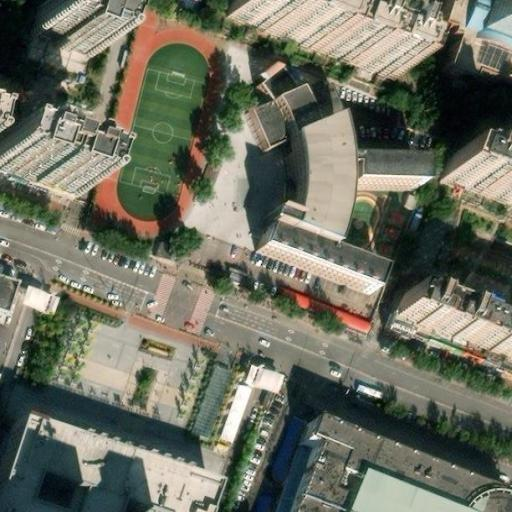building: (272, 422, 512, 512), (0, 422, 204, 512), (226, 0, 393, 81), (392, 288, 512, 358), (247, 217, 366, 281), (427, 0, 512, 83), (280, 122, 336, 241), (260, 275, 370, 333), (435, 158, 512, 217), (0, 147, 76, 200), (25, 6, 100, 57), (188, 367, 227, 438), (214, 370, 251, 442), (332, 156, 415, 184), (267, 92, 309, 139), (17, 279, 59, 314), (247, 375, 287, 400), (0, 286, 14, 322)
